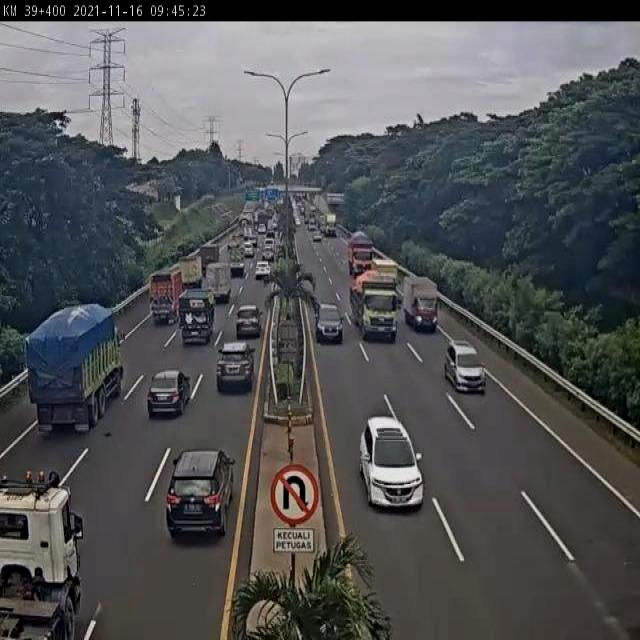Car: (360, 416, 426, 512), (166, 448, 236, 538), (147, 368, 192, 418), (446, 341, 486, 394), (216, 340, 256, 393), (314, 303, 344, 344), (235, 304, 263, 338), (254, 260, 271, 280), (243, 240, 255, 258), (258, 224, 266, 235)
Truck: (0, 468, 85, 640), (27, 302, 126, 436), (349, 270, 396, 340), (402, 275, 440, 331), (178, 289, 215, 344), (148, 269, 184, 322), (347, 232, 372, 276), (206, 262, 232, 300)
